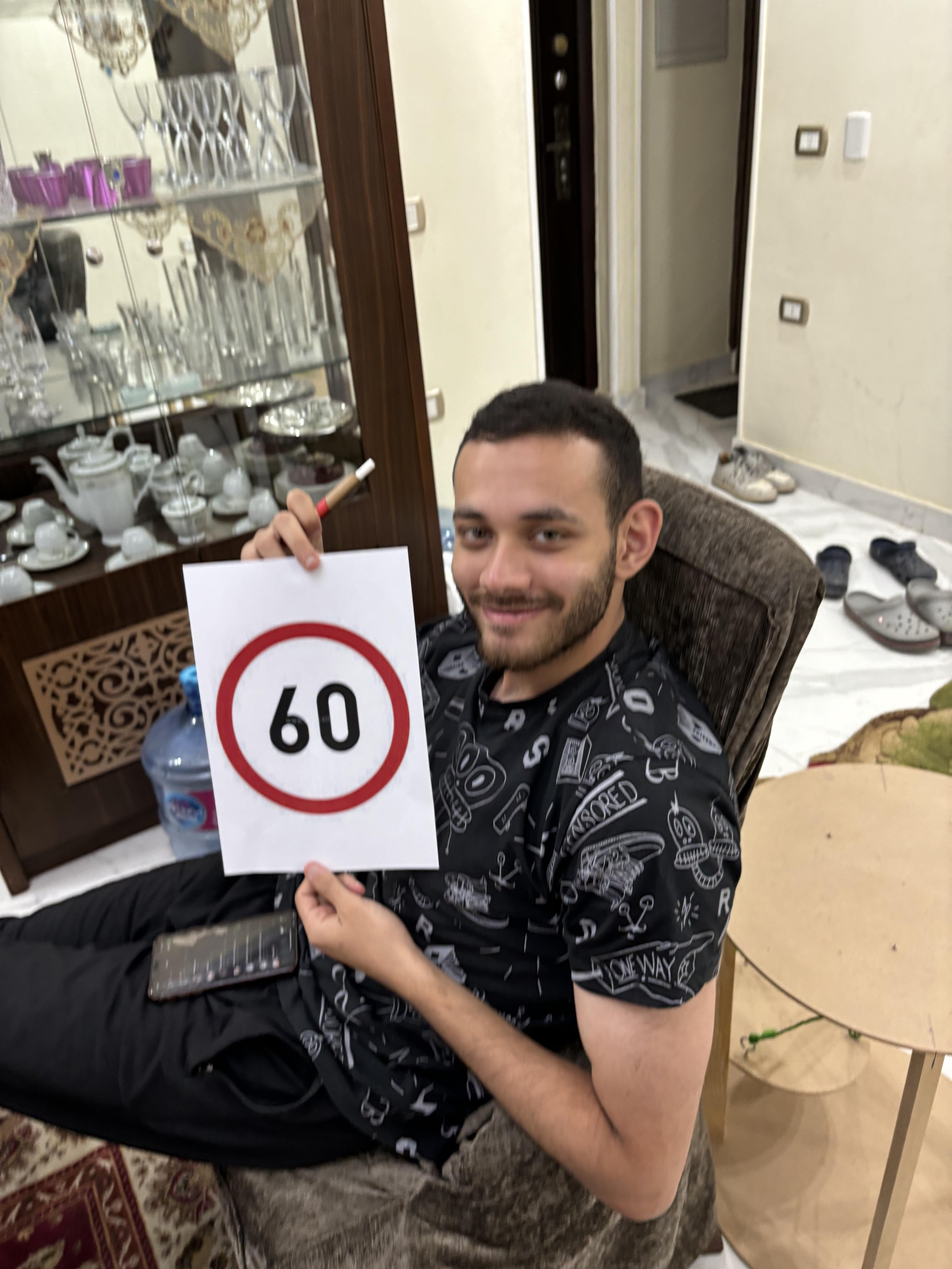60-Speed: (214, 614, 417, 826)
